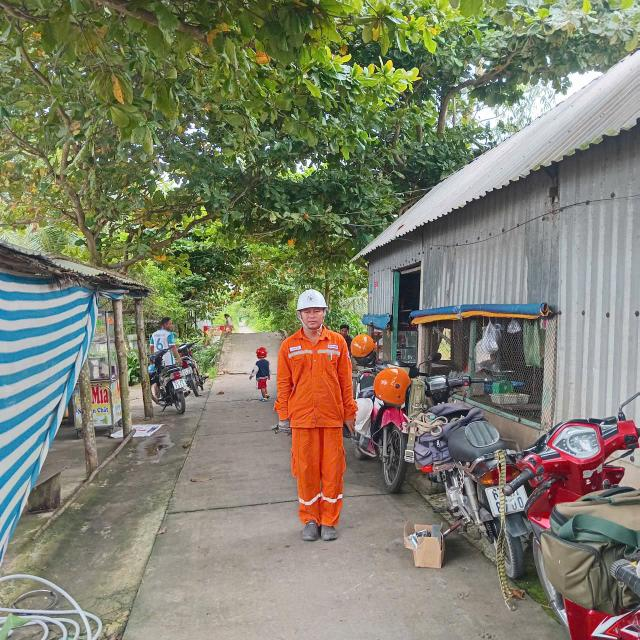gloves: (275, 418, 295, 439)
helmet: (287, 288, 331, 311)
shoes: (295, 517, 320, 541), (316, 520, 343, 542)
